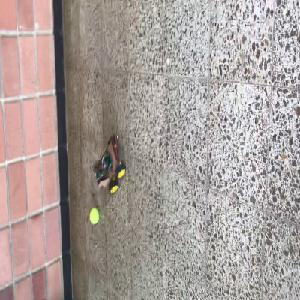Ball: (89, 208, 98, 224)
Robot: (92, 136, 125, 193)
